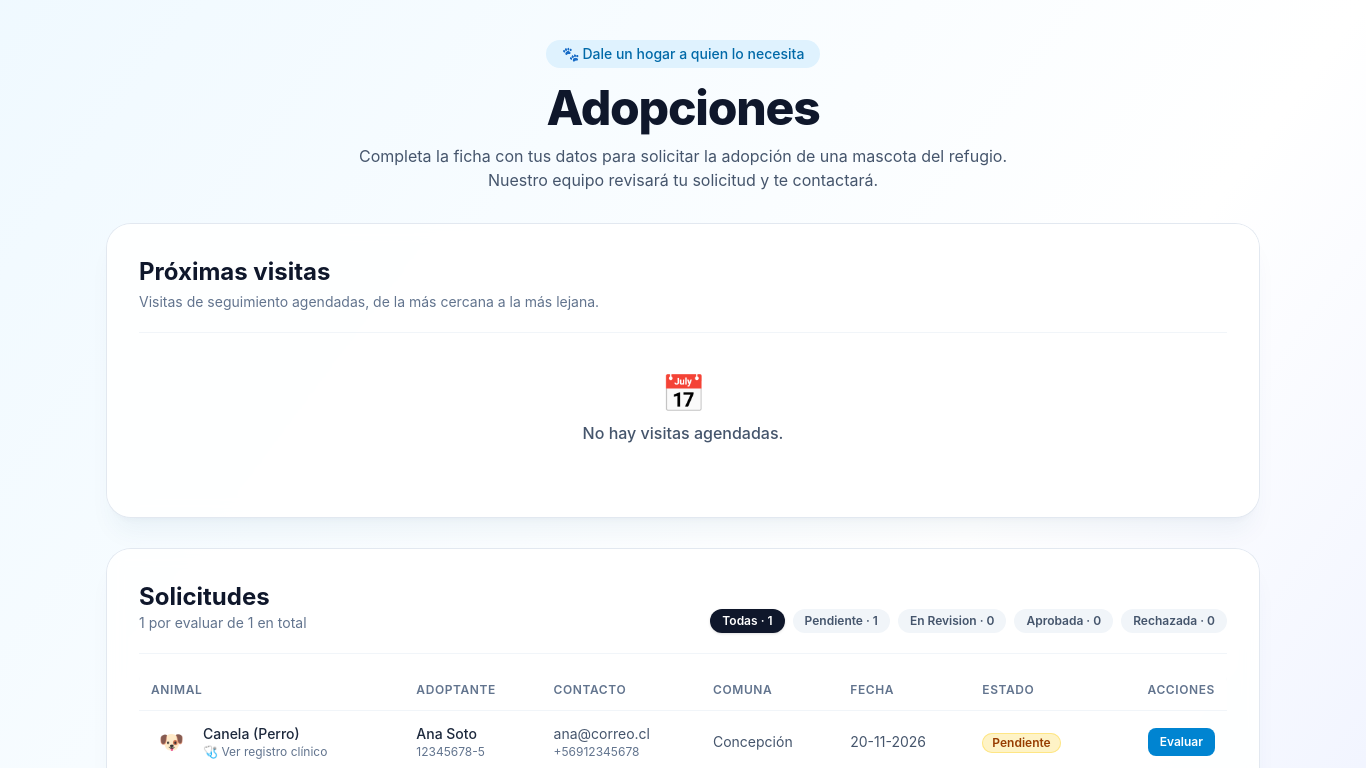
Test: Solicitudes (vista del encargado de adopciones) › al presionar el animal se abre su registro clínico con su estado
Expected: the heading "Solicitudes" is shown, [139,582,270,611]
Click the button "🐶 Canela (Perro) 🩺 Ver registro clínico" at (239, 742), box [147,718,331,766]
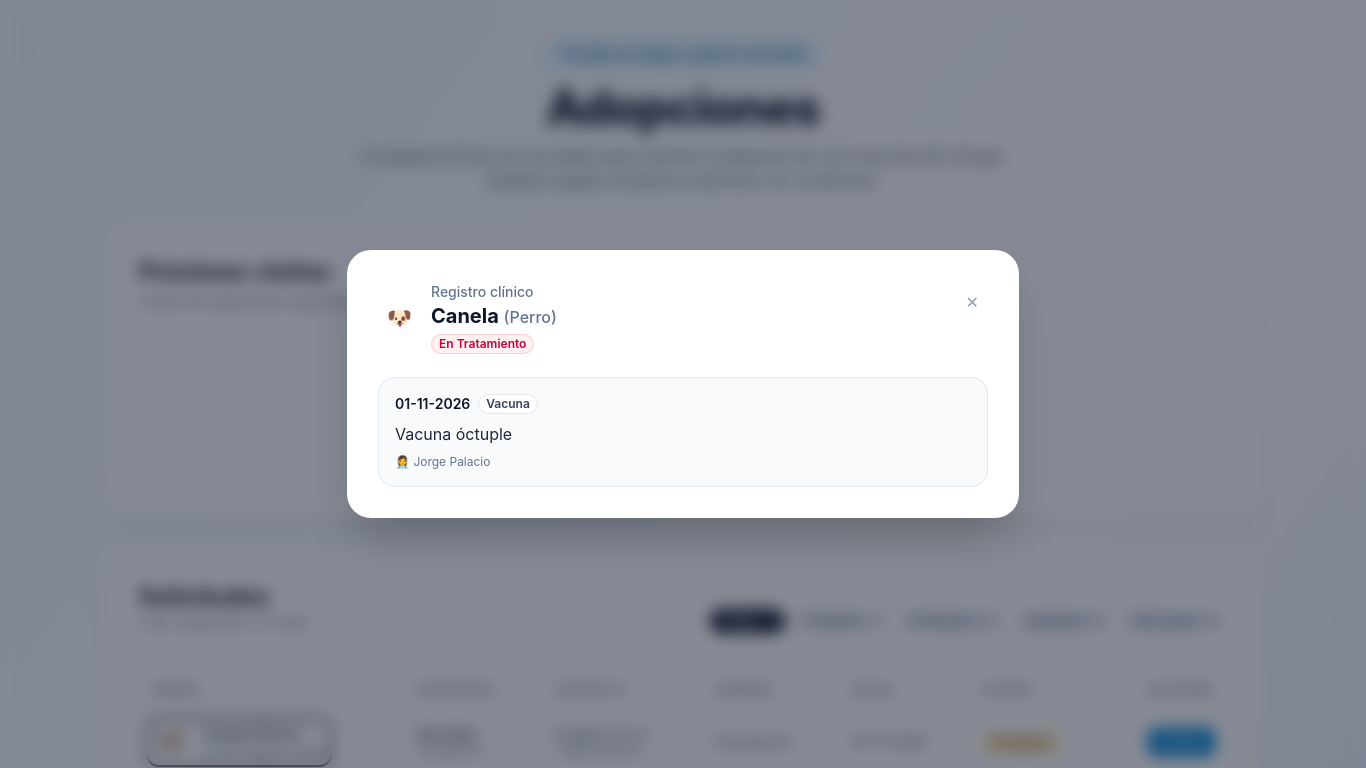
Expected: the text "Vacuna óctuple" is shown, [395,424,512,444]
Expected: the text "en tratamiento" is shown, [431,334,534,354]
Expected: the text "👩‍⚕️ Jorge Palacio" is shown, [395,454,490,469]
